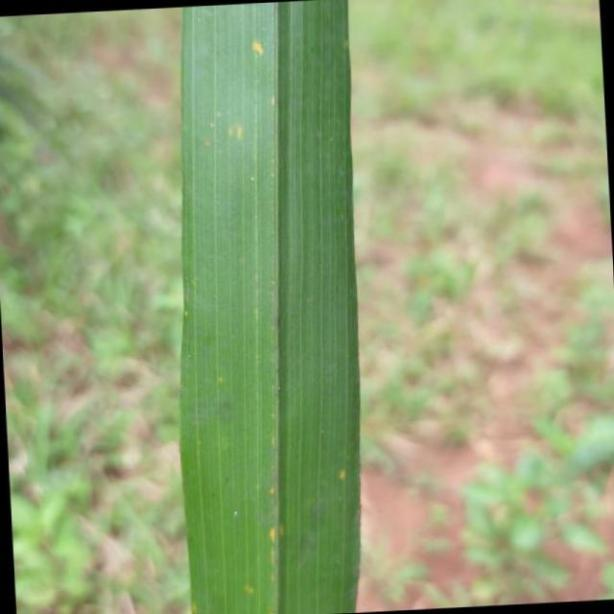Kalium: (178, 1, 369, 614)
